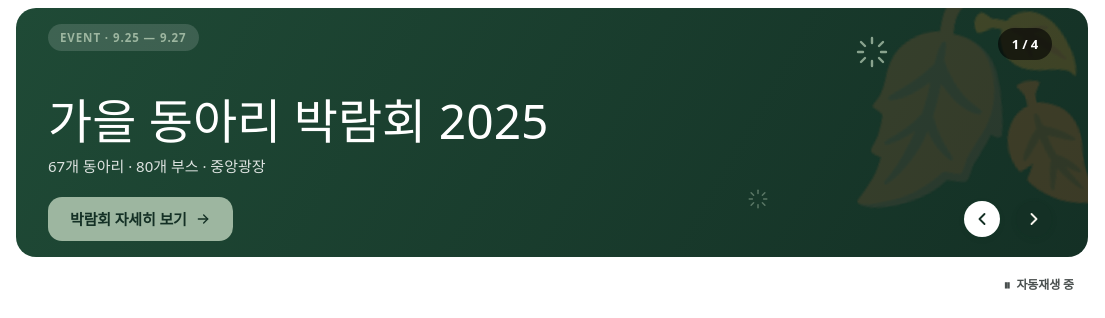
Test: BannerCarouselClient — 오버레이 컨트롤 › 자동 재생 토글은 보이는 문구로만 상태를 알린다
Click the button "⏸ 자동재생 중": (1039, 285) [990, 269, 1088, 301]
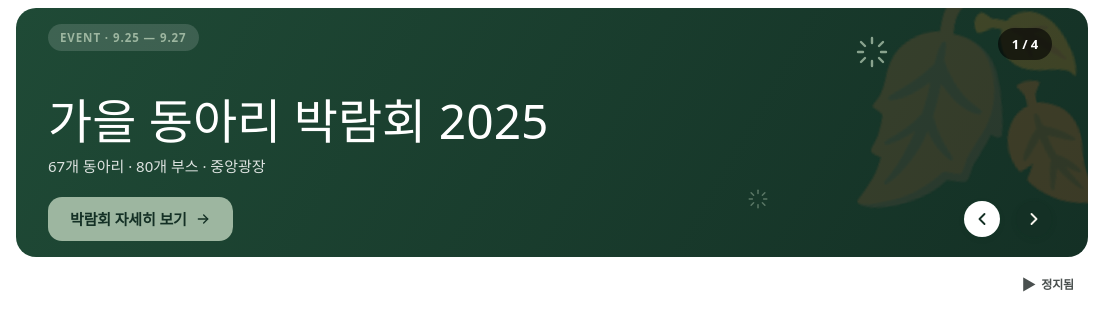
Now the button "▶ 정지됨" is shown, box [1007, 269, 1088, 301]
Now the button "자동재생 중" is gone
